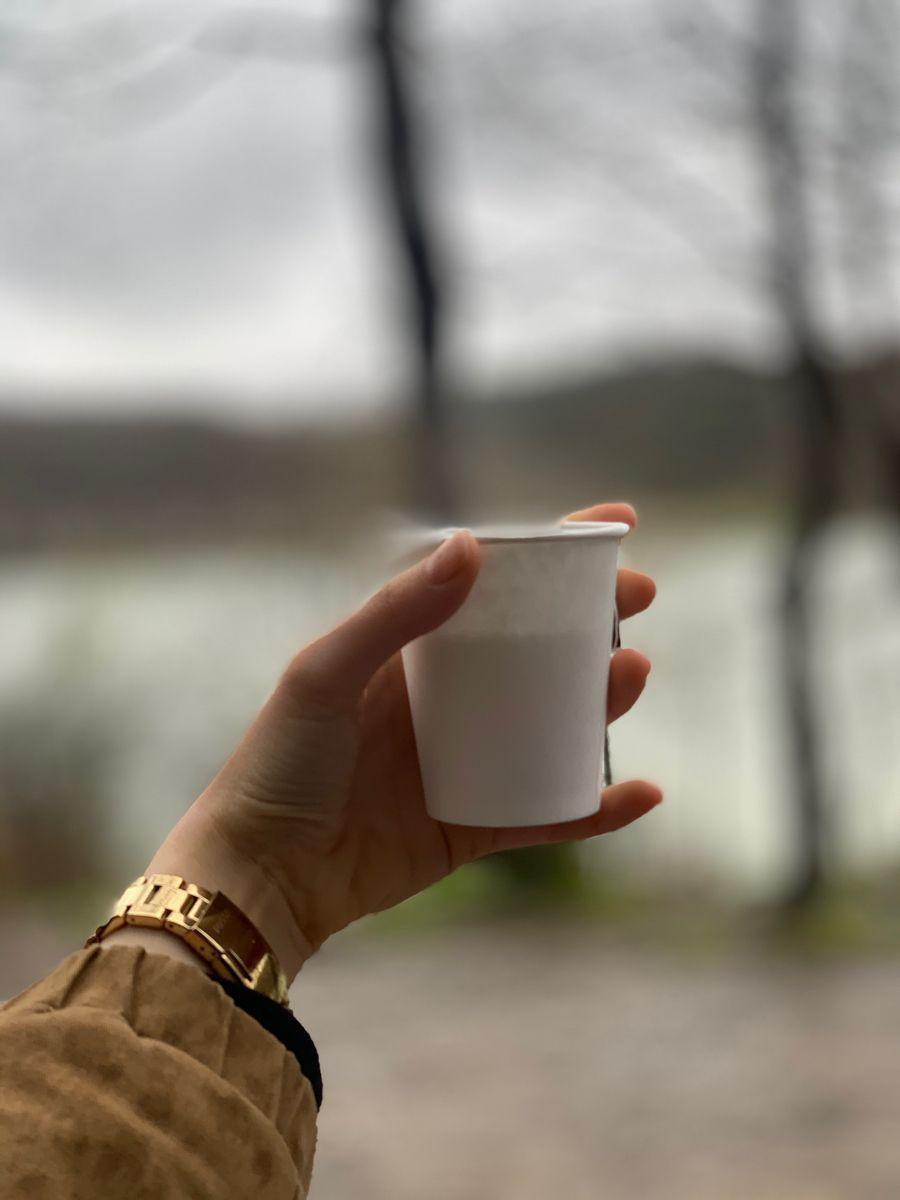cup-disposable: (386, 510, 635, 829)
